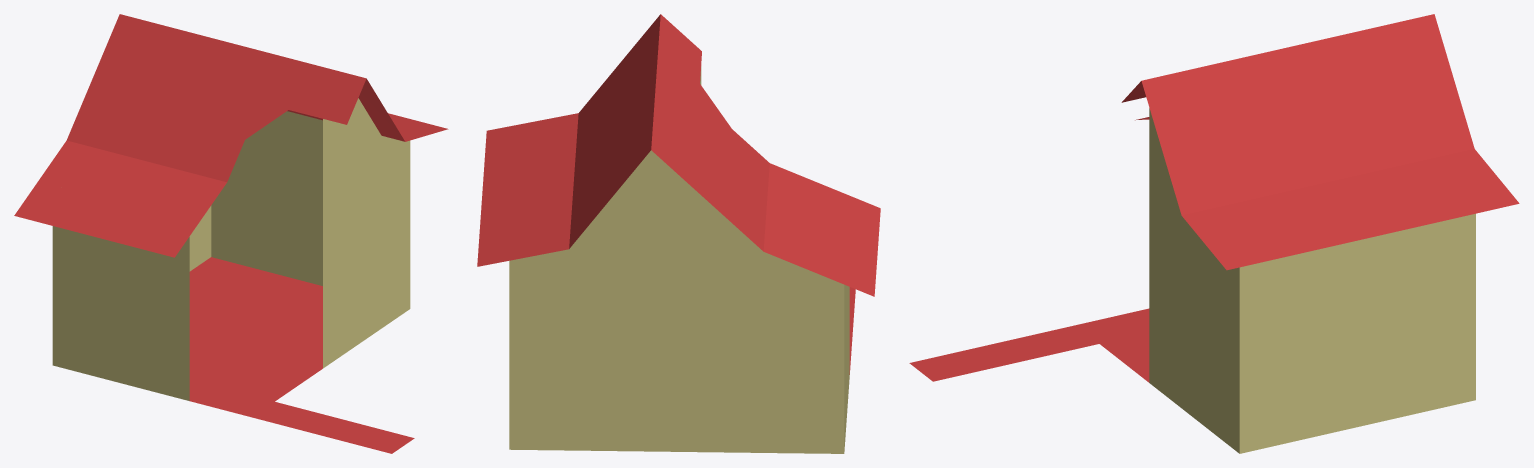
3 views of the same model, side by side, from view 1: azimuth 30°, elevation 25°; view 2: azimuth 150°, elevation 25°; view 3: azimuth 270°, elevation 25° (orthographic). The views are drawn at different scales.
Bounding box in the file's own units: 12.08 × 14.21 × 8.34.
